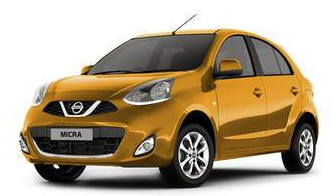car: (16, 28, 319, 192)
